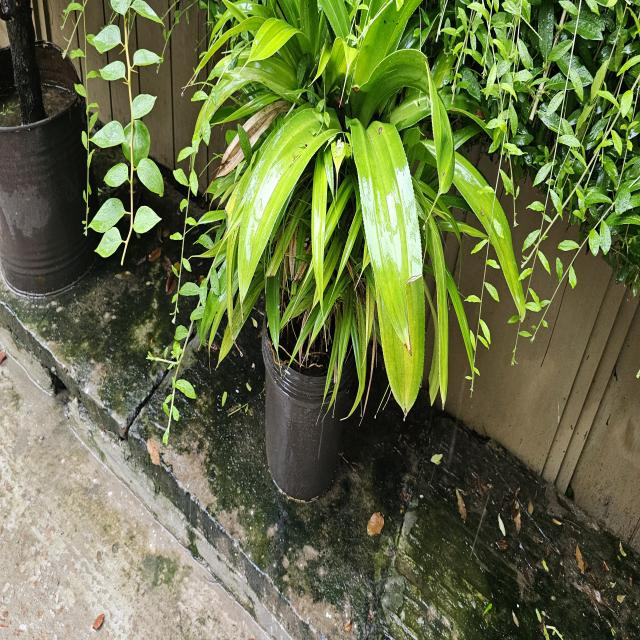artificial_container: (0, 37, 97, 299), (258, 292, 348, 504)
